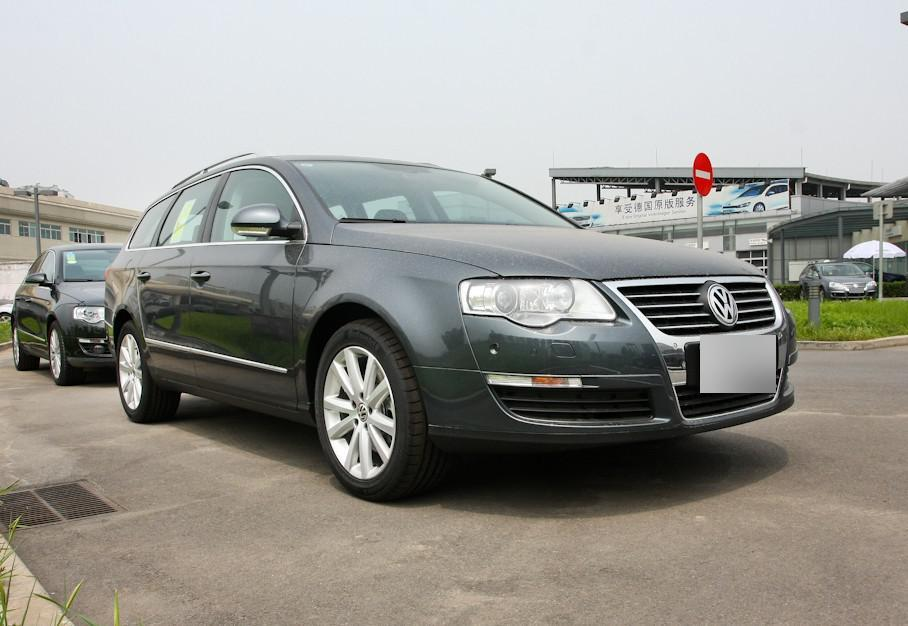Wagon: (102, 152, 802, 505)
